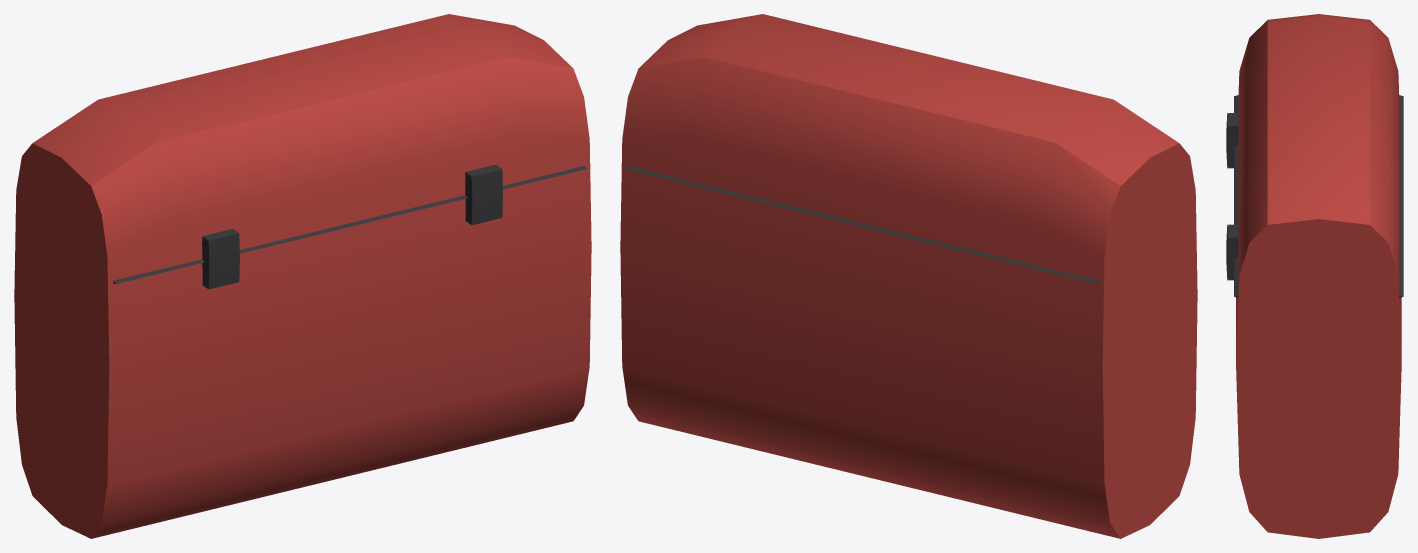
The model's file is hard_case_lod1.glb.
3 renders of one model, left to right at view 1: azimuth 30°, elevation 25°; view 2: azimuth 150°, elevation 25°; view 3: azimuth 270°, elevation 25°, orthographic. The views are drawn at different scales.
Parts seen in each view (by area): view 1: hard_case_lod1; view 2: hard_case_lod1; view 3: hard_case_lod1.
Part boxes in pixels (x1,y1,x2,y2): hard_case_lod1: (14,14,591,538); hard_case_lod1: (620,14,1197,538); hard_case_lod1: (1226,14,1403,538).
Bounding box in the file's own units: 0.44 × 0.345 × 0.161.
